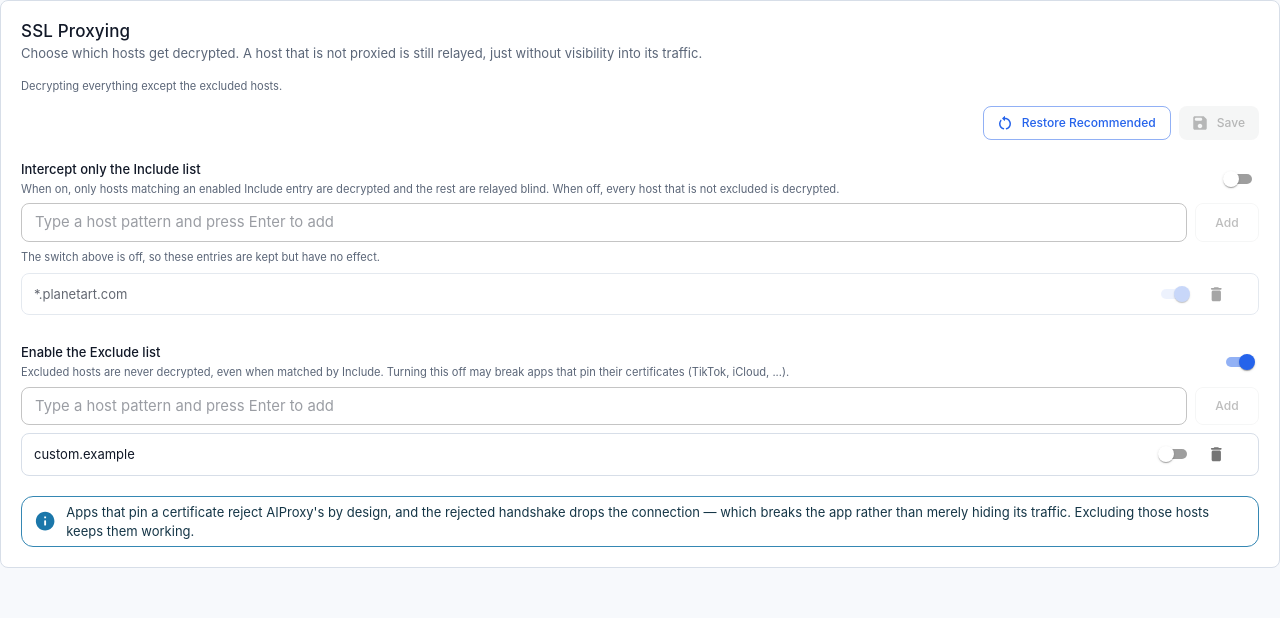
SslProxyingSection › merges recommended exclusions without dropping custom entries
Click the button "Restore Recommended" at (1077,123), box left=983, top=106, right=1171, bottom=140
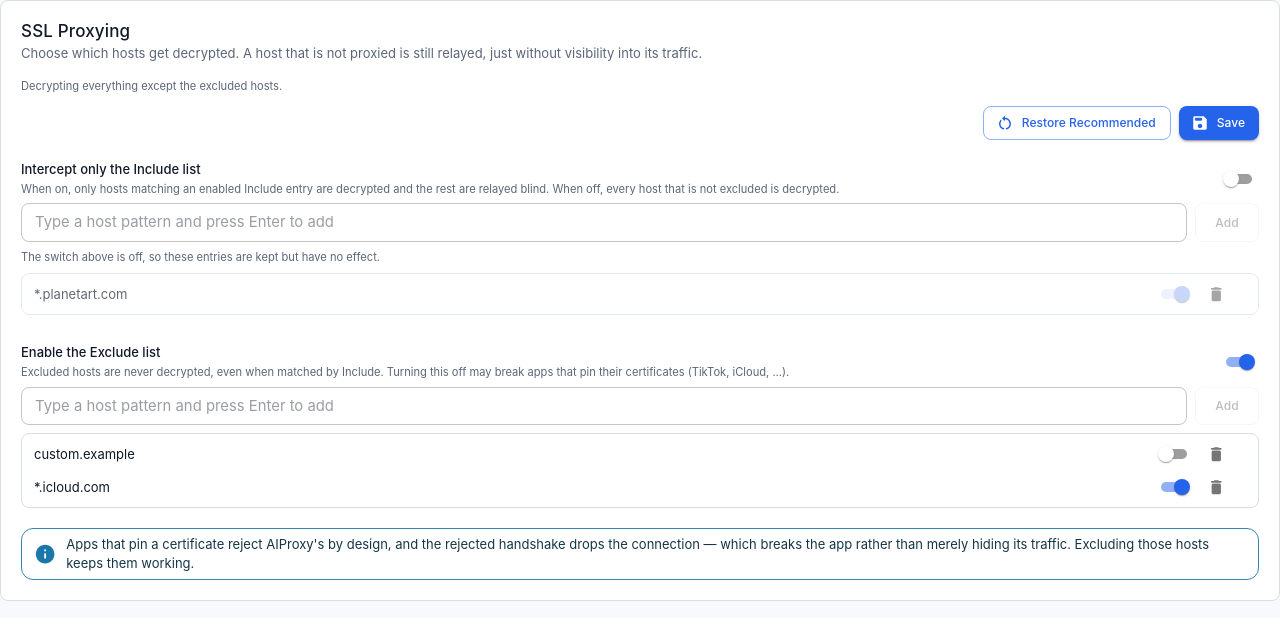
Expected: the text "custom.example" is shown, left=34, top=446, right=135, bottom=462
Now the text "*.icloud.com" is shown, box left=34, top=479, right=110, bottom=495
Now the switch named "Disable *.icloud.com" is enabled, box left=1174, top=479, right=1190, bottom=495
